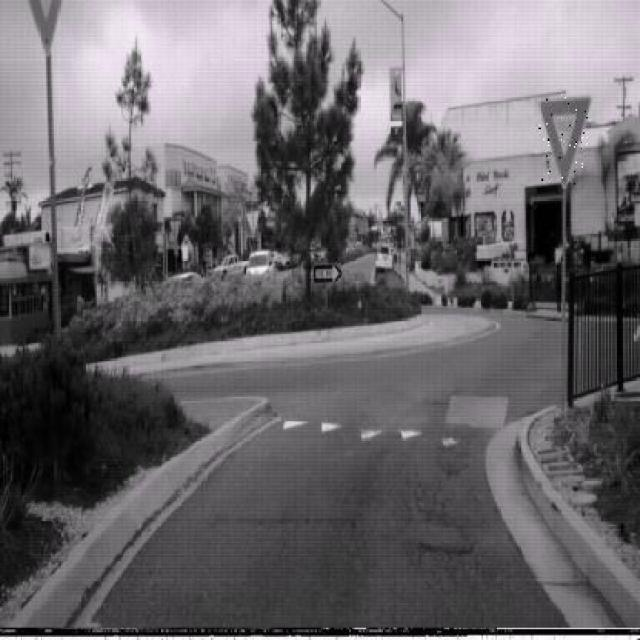yield: (538, 94, 592, 189)
